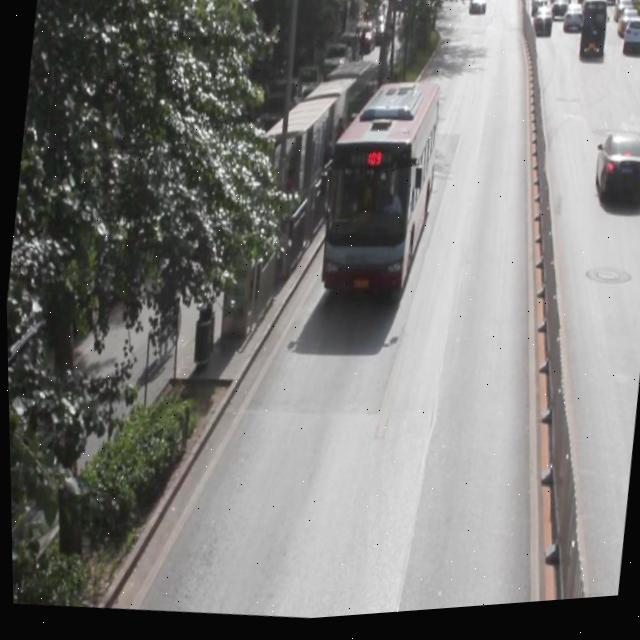car: (589, 138, 640, 216)
van: (313, 75, 444, 307)
